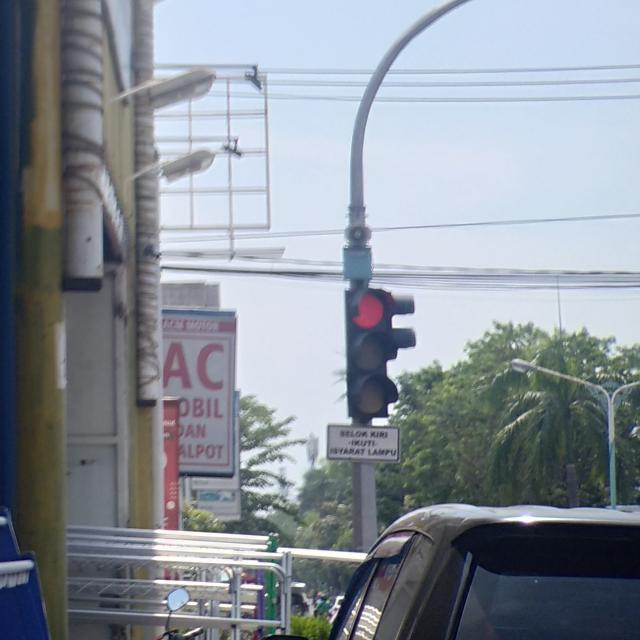red_light: (343, 287, 414, 420)
